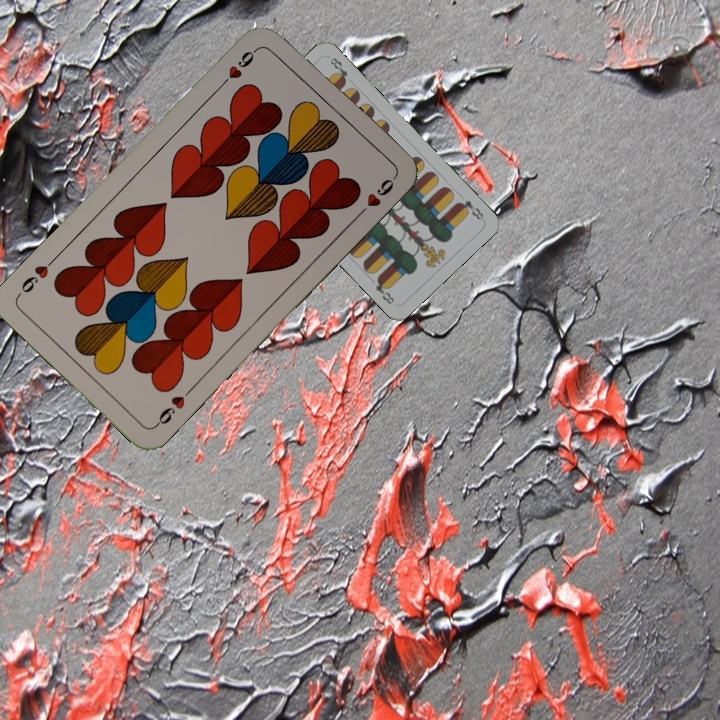E8: (453, 196, 486, 222)
H9: (150, 383, 196, 430), (215, 43, 261, 90)
